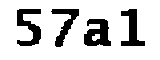1: (117, 6, 149, 52)
5: (12, 6, 45, 50)
7: (49, 6, 81, 50)
a: (85, 17, 113, 49)
